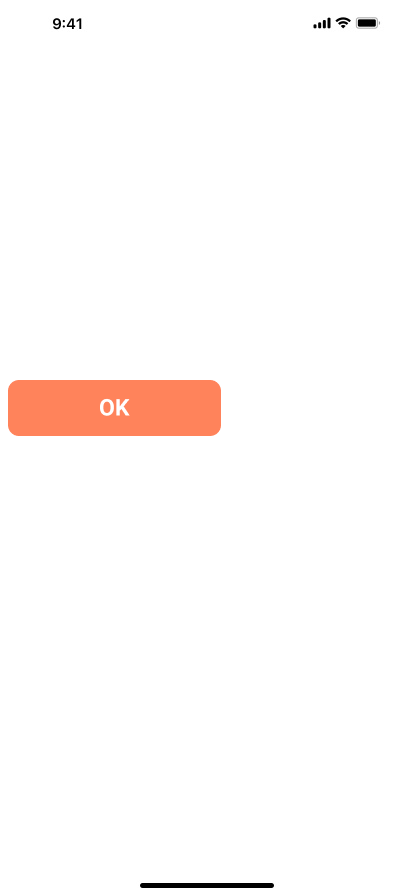Buttons: (8, 380, 221, 436)
Home Indicator: (0, 862, 414, 896)
Status Bar: (0, 0, 414, 44)
